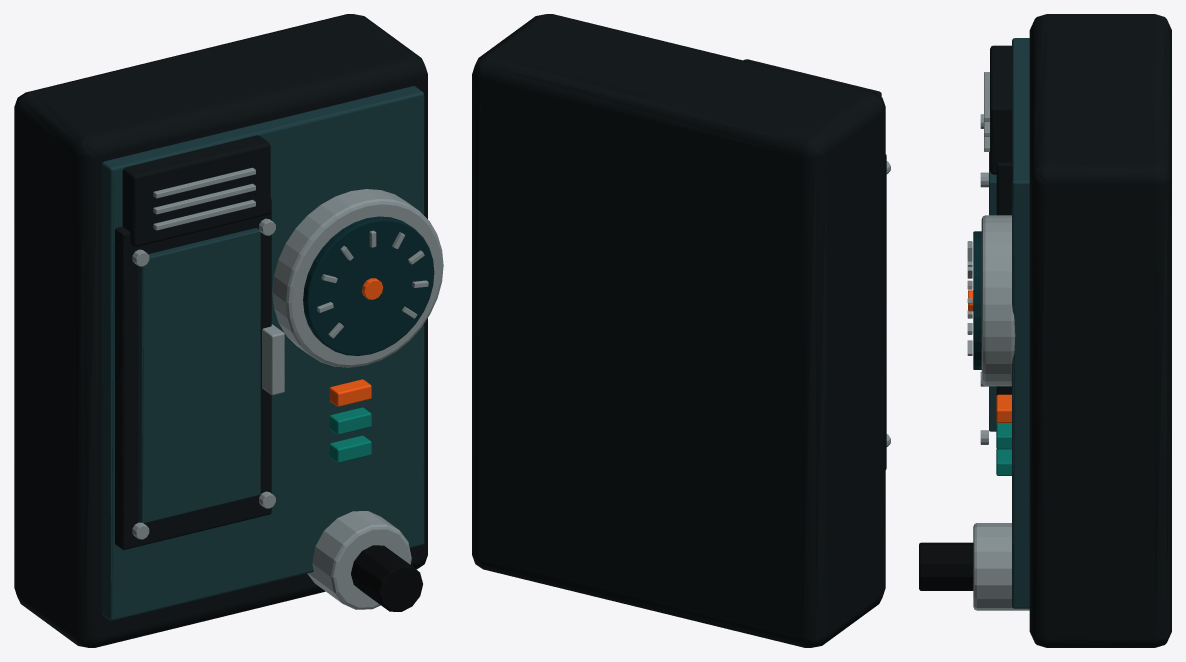
File: mechanical_prop.glb
3 renders of one model, left to right at view 1: azimuth 30°, elevation 25°; view 2: azimuth 150°, elevation 25°; view 3: azimuth 270°, elevation 25°, orthographic. The views are drawn at different scales.
Parts seen in each view (by area): view 1: PRP_Junction_Chassis, PRP_FrontFace, PRP_DoorInset, PRP_ServiceDoor, PRP_GaugeFace, PRP_VentBlock, PRP_GaugeBezel, PRP_CableGland, PRP_Conduit, PRP_Latch, PRP_StatusLamp_Middle, PRP_StatusLamp_Upper (+4 smaller); view 2: PRP_Junction_Chassis, PRP_ServiceDoor; view 3: PRP_Junction_Chassis, PRP_FrontFace, PRP_GaugeBezel, PRP_CableGland, PRP_VentBlock, PRP_Conduit, PRP_GaugeFace, PRP_ServiceDoor, PRP_DoorInset, PRP_StatusLamp_Upper, PRP_StatusLamp_Middle, PRP_StatusLamp_Lower.
Boxes of the visible parts, box(x1,y1,x2,y2) form: PRP_Junction_Chassis: box(14, 14, 427, 647); PRP_FrontFace: box(101, 86, 424, 620); PRP_DoorInset: box(138, 228, 260, 523); PRP_ServiceDoor: box(115, 198, 271, 549); PRP_GaugeFace: box(303, 216, 434, 355); PRP_VentBlock: box(122, 135, 270, 246); PRP_GaugeBezel: box(272, 189, 443, 367); PRP_CableGland: box(307, 511, 411, 609); PRP_Conduit: box(351, 545, 422, 611); PRP_Latch: box(262, 324, 284, 395); PRP_StatusLamp_Middle: box(329, 407, 371, 434); PRP_StatusLamp_Upper: box(329, 379, 371, 406); PRP_Junction_Chassis: box(472, 14, 885, 647); PRP_ServiceDoor: box(885, 154, 886, 469); PRP_Junction_Chassis: box(1029, 14, 1171, 647); PRP_FrontFace: box(1012, 38, 1029, 608); PRP_GaugeBezel: box(981, 215, 1015, 386); PRP_CableGland: box(973, 523, 1029, 610); PRP_VentBlock: box(990, 45, 1012, 174); PRP_Conduit: box(919, 542, 973, 590); PRP_GaugeFace: box(973, 231, 981, 369); PRP_ServiceDoor: box(996, 162, 1011, 395); PRP_DoorInset: box(989, 152, 996, 431); PRP_StatusLamp_Upper: box(996, 394, 1011, 422); PRP_StatusLamp_Middle: box(996, 422, 1011, 449); PRP_StatusLamp_Lower: box(996, 449, 1011, 475).
Bounding box in the file's own units: 0.92 × 1.28 × 0.605.
Materials: 1 (1 with a texture image).
